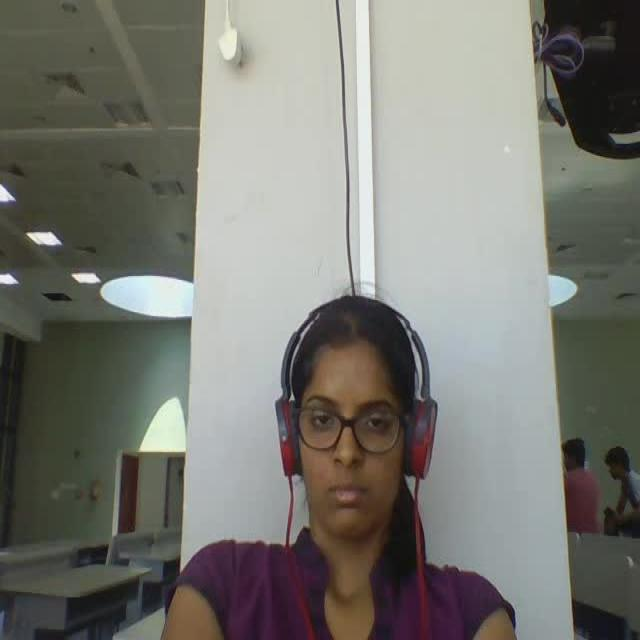Engaged: (258, 271, 452, 570)
